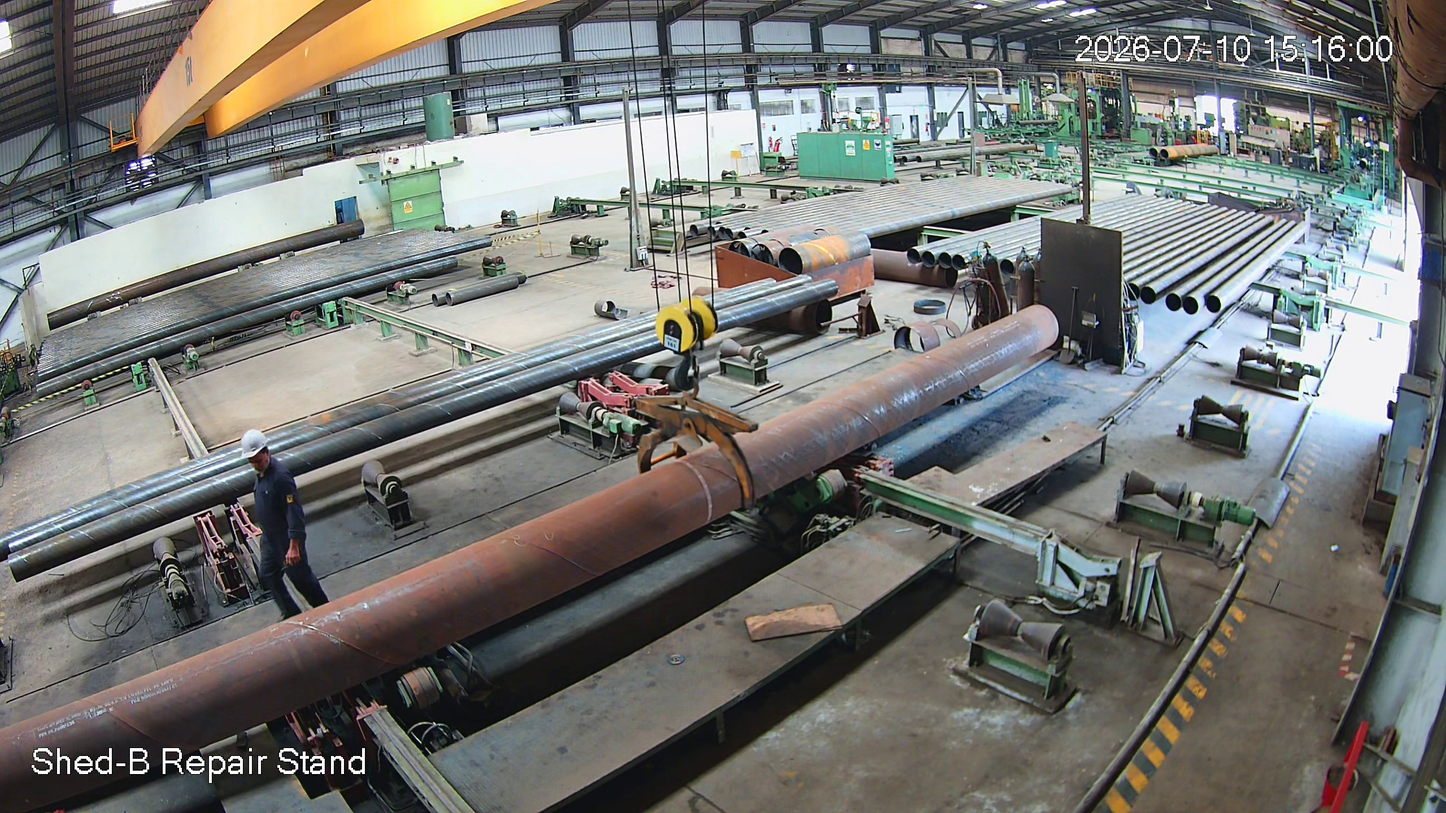Helmet: (233, 426, 300, 488)
Person: (220, 429, 350, 620)
